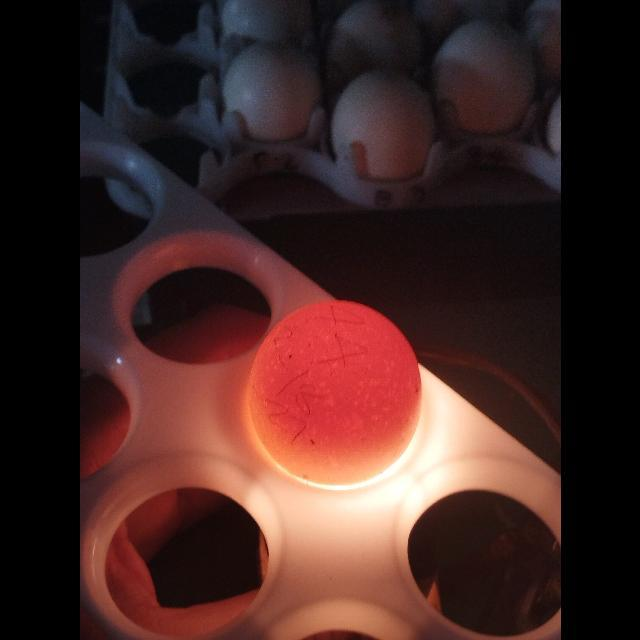Infertile: (244, 296, 428, 494)
